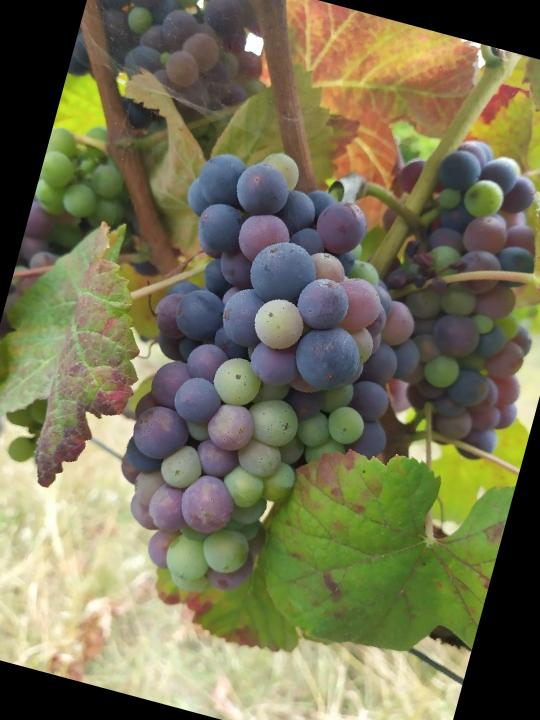grape: (84, 126, 466, 638)
